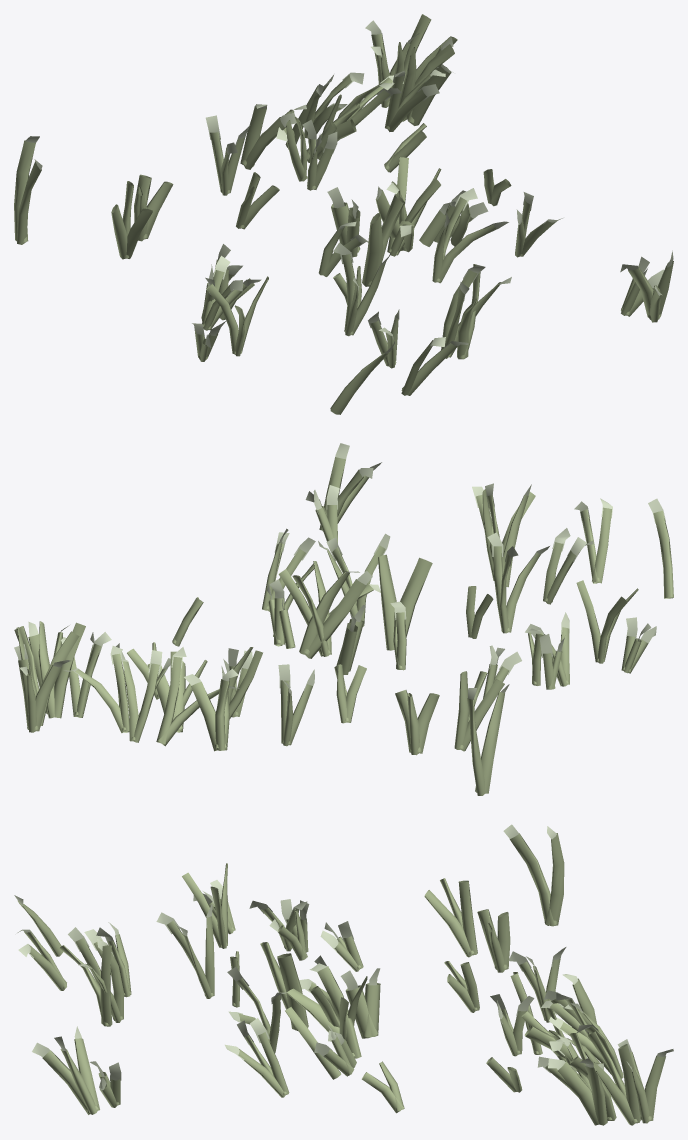
File: GrassClump.fbx
3 views of the same model, one above another, from view 1: azimuth 30°, elevation 25°; view 2: azimuth 150°, elevation 25°; view 3: azimuth 270°, elevation 25° (orthographic). The views are drawn at different scales.
Visible parts, largest first — view 1: NOCOL_grassBermuda1Main, NOCOL_grassBermuda1Leaf; view 2: NOCOL_grassBermuda1Main, NOCOL_grassBermuda1Leaf; view 3: NOCOL_grassBermuda1Main, NOCOL_grassBermuda1Leaf.
Boxes of the visible parts, x1,y1,x2,y2 form: NOCOL_grassBermuda1Main: (14,14,673,414); NOCOL_grassBermuda1Leaf: (25,20,673,358); NOCOL_grassBermuda1Main: (14,457,673,795); NOCOL_grassBermuda1Leaf: (14,443,665,699); NOCOL_grassBermuda1Main: (17,833,665,1125); NOCOL_grassBermuda1Leaf: (14,824,673,1092).
Size of the model in its own units: 2.16 by 0.4815 by 2.73.
